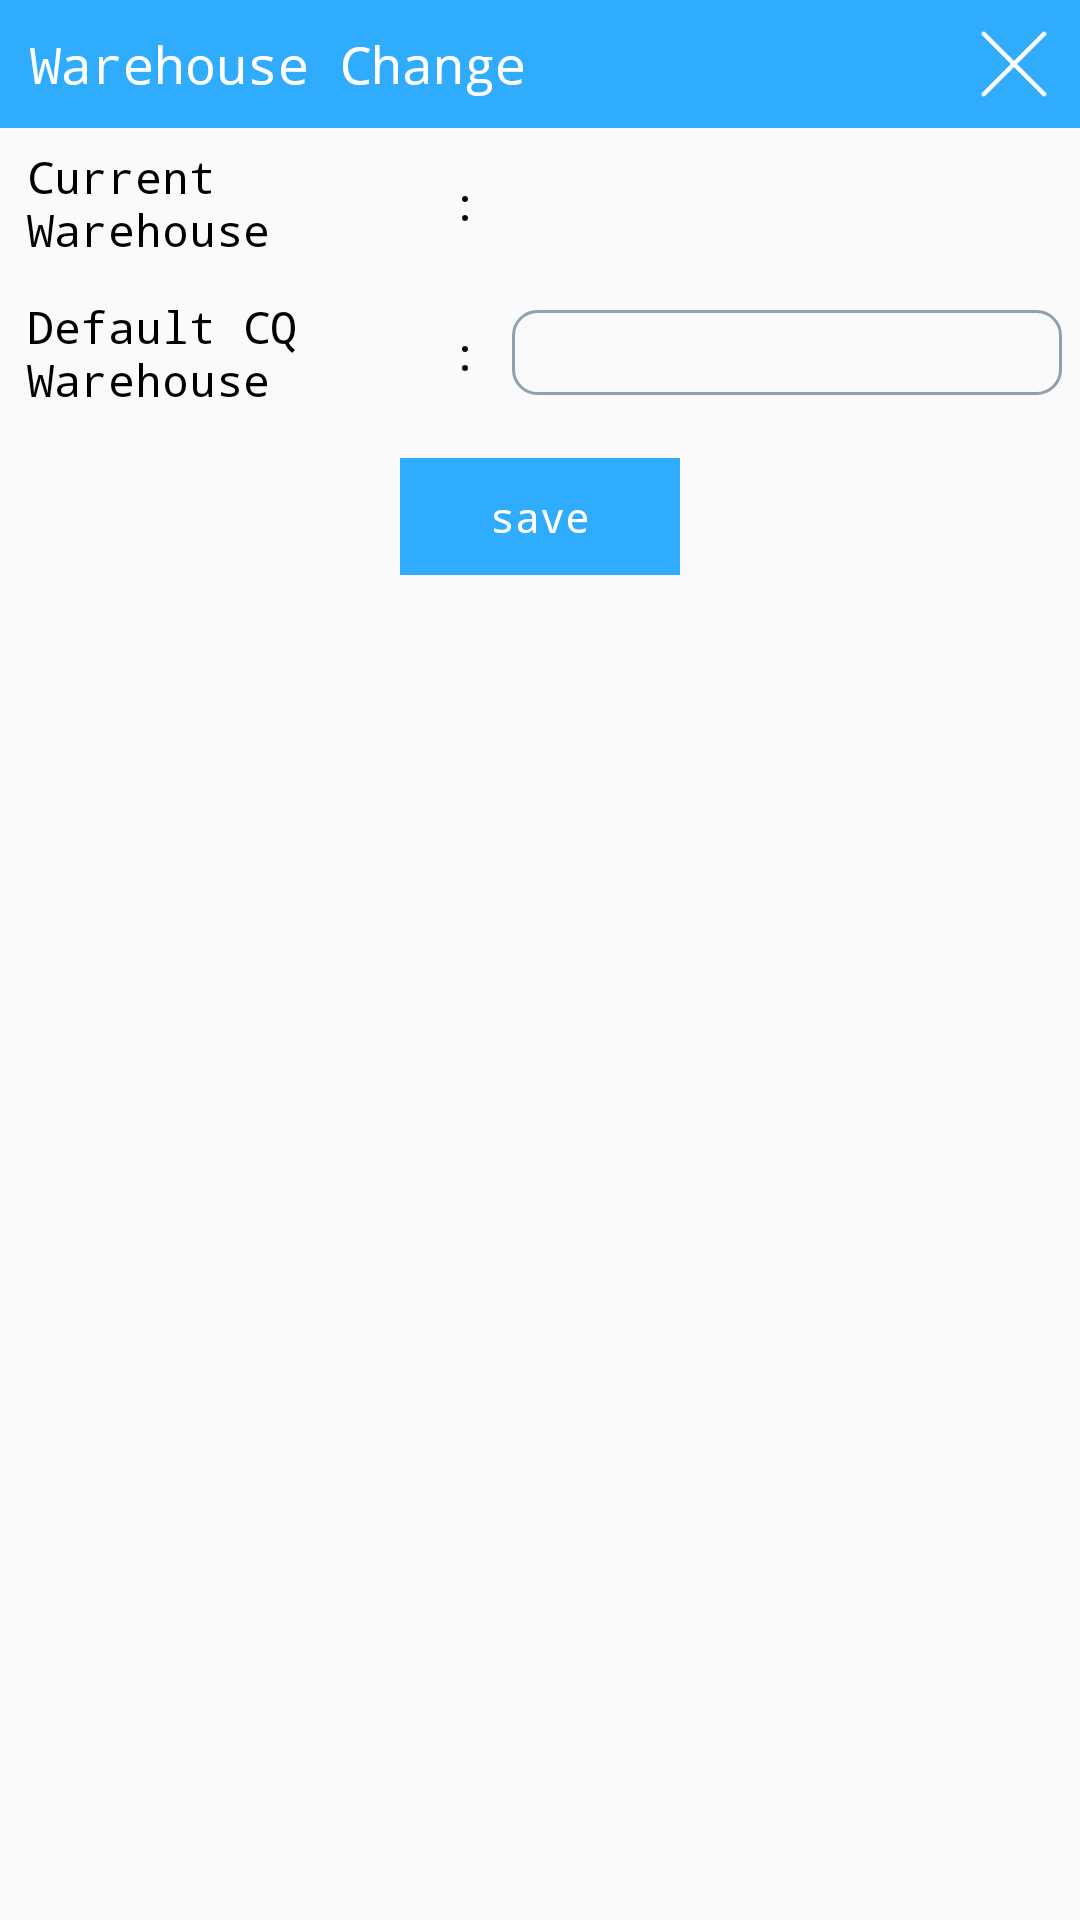

Icon click points for this 1080×1920 phone screenshot, format (x=x, y=y):
cancel: (x=1014, y=64)
